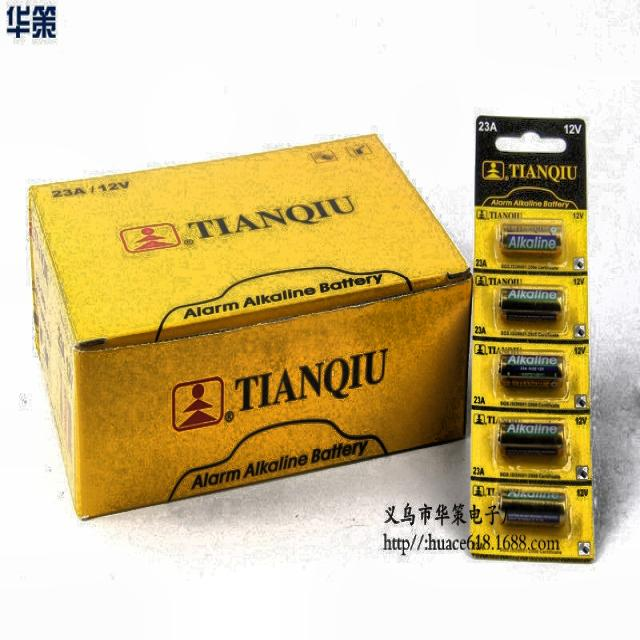Non-Valuable Waste - Batteries: (499, 490, 565, 524), (499, 423, 564, 455), (499, 356, 562, 387), (500, 225, 562, 254), (500, 288, 561, 312)
Valuable Waste - Cardboard: (29, 134, 471, 517)
